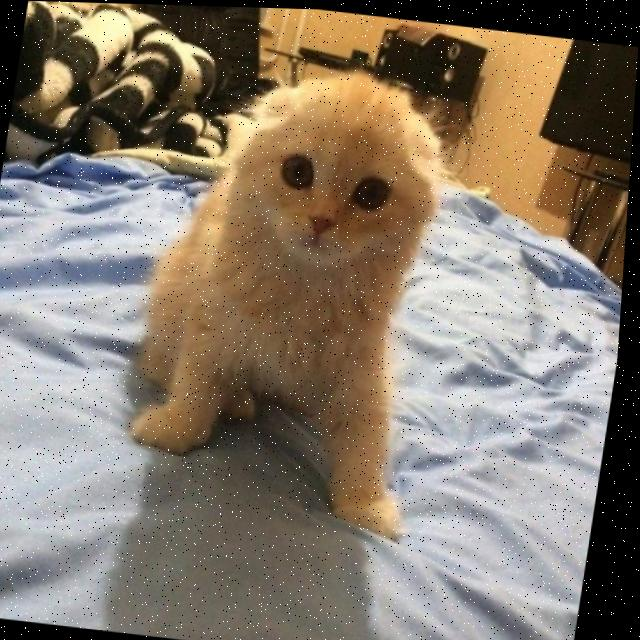Cats: (116, 56, 491, 544)
